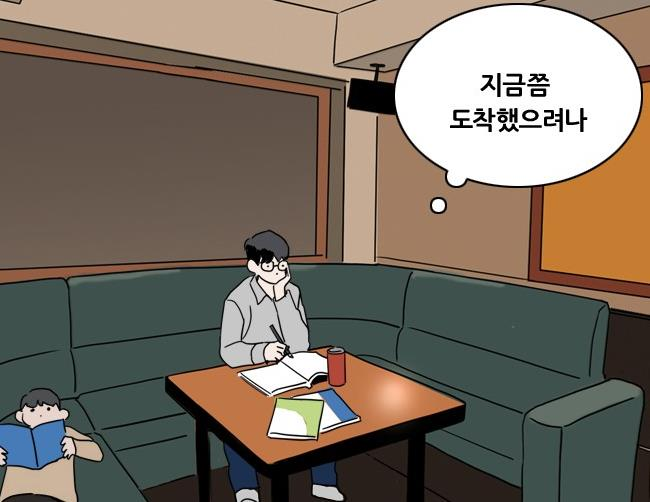can: (323, 344, 350, 387)
